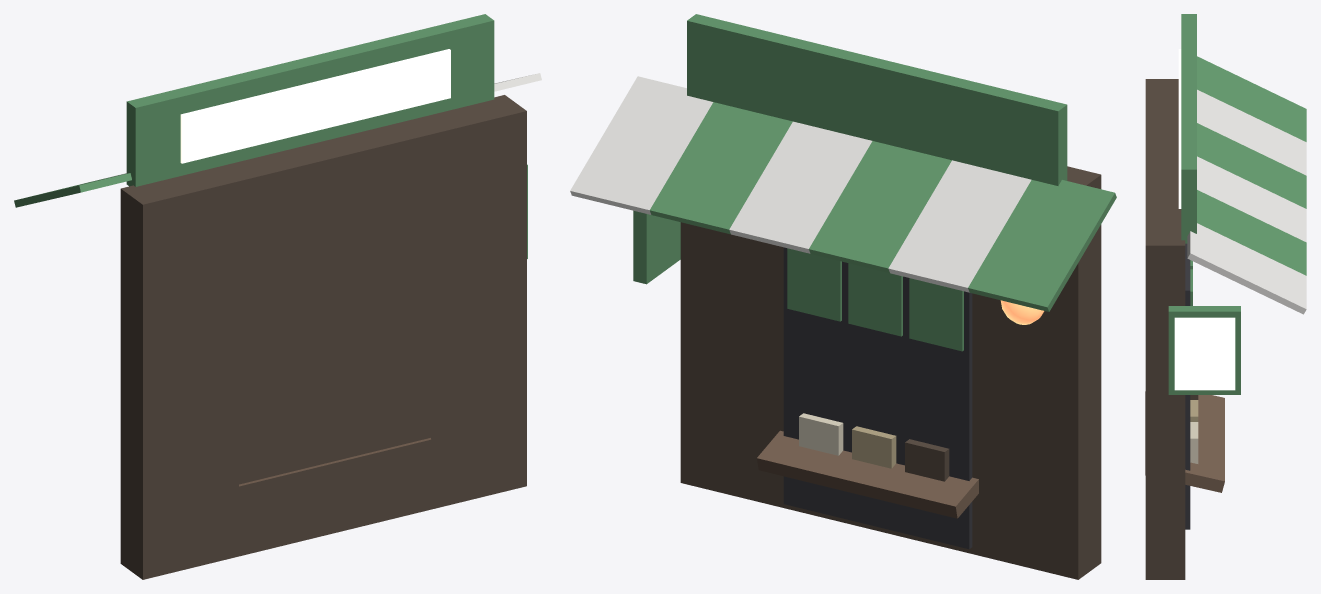
The model's file is prop_mise_chaya.glb.
3 renders of one model, left to right at view 1: azimuth 30°, elevation 25°; view 2: azimuth 150°, elevation 25°; view 3: azimuth 270°, elevation 25°, orthographic. The views are drawn at different scales.
Parts seen in each view (by area): view 1: mise_chaya; view 2: mise_chaya; view 3: mise_chaya.
Part boxes in pixels (<box>): mise_chaya: <box>14,14,541,579</box>; mise_chaya: <box>570,14,1116,579</box>; mise_chaya: <box>1145,14,1306,579</box>.
Bounding box in the file's own units: 3.6 × 3.39 × 1.23.
